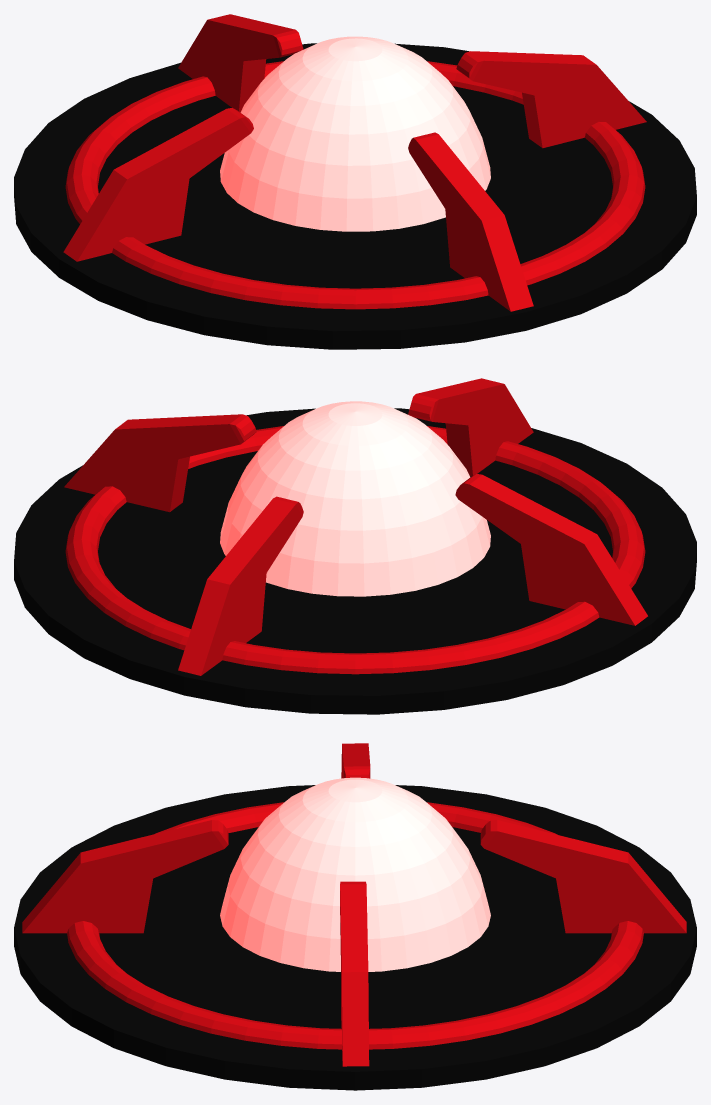
The model's file is emittor.glb.
3 views of the same model, one above another, from view 1: azimuth 30°, elevation 25°; view 2: azimuth 150°, elevation 25°; view 3: azimuth 270°, elevation 25° (orthographic).
Visible parts, largest first — view 1: Circle, Sphere, Torus, Cube.003, Cube.002, Cube, Cube.001; view 2: Circle, Sphere, Torus, Cube.003, Cube.002, Cube.001, Cube; view 3: Circle, Sphere, Torus, Cube.001, Cube, Cube.002, Cube.003.
Part boxes in pixels (box(x1,y1,x2,y2)): Circle: box(14, 43, 696, 349); Sphere: box(220, 36, 490, 231); Torus: box(65, 61, 645, 309); Cube.003: box(63, 108, 253, 261); Cube.002: box(456, 51, 646, 148); Cube: box(408, 132, 533, 311); Cube.001: box(178, 14, 303, 112); Circle: box(14, 408, 696, 714); Sphere: box(220, 401, 490, 596); Torus: box(65, 426, 645, 674); Cube.003: box(455, 474, 647, 625); Cube.002: box(64, 414, 256, 512); Cube.001: box(178, 496, 303, 675); Cube: box(408, 378, 533, 476); Circle: box(14, 785, 696, 1090); Sphere: box(220, 777, 490, 971); Torus: box(67, 802, 643, 1049); Cube.001: box(480, 820, 686, 933); Cube: box(22, 820, 228, 933); Cube.002: box(340, 881, 369, 1066); Cube.003: box(341, 743, 370, 778).
Size of the model in its own units: 0.6206 by 0.1588 by 0.6206.
